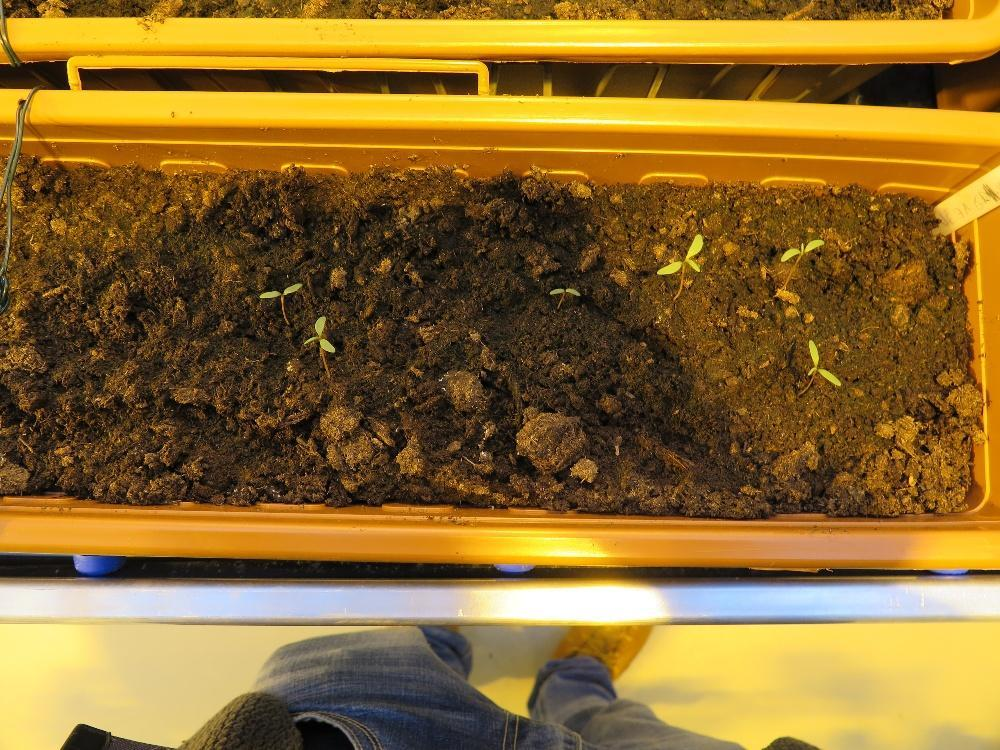weed: (655, 231, 703, 275), (804, 337, 841, 386), (302, 313, 336, 354), (779, 237, 824, 262), (256, 280, 303, 300), (547, 285, 581, 296)
